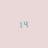four: (24, 19, 28, 27)
one: (19, 20, 23, 28)
